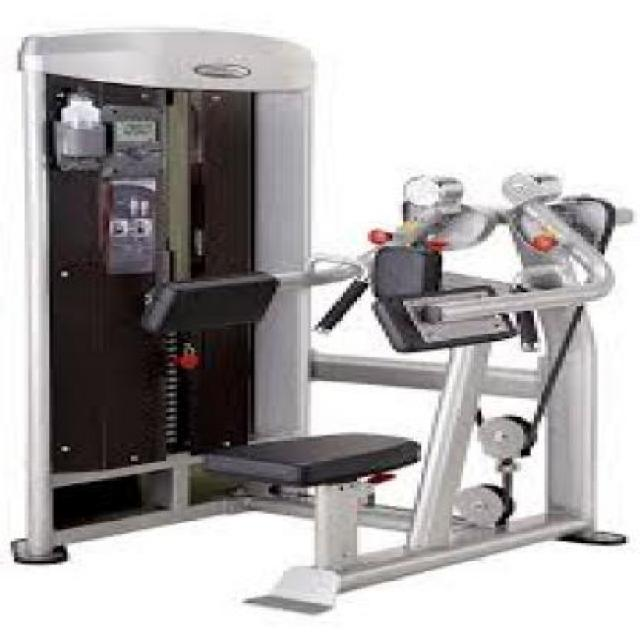lateral raises machine: (10, 24, 628, 616)
